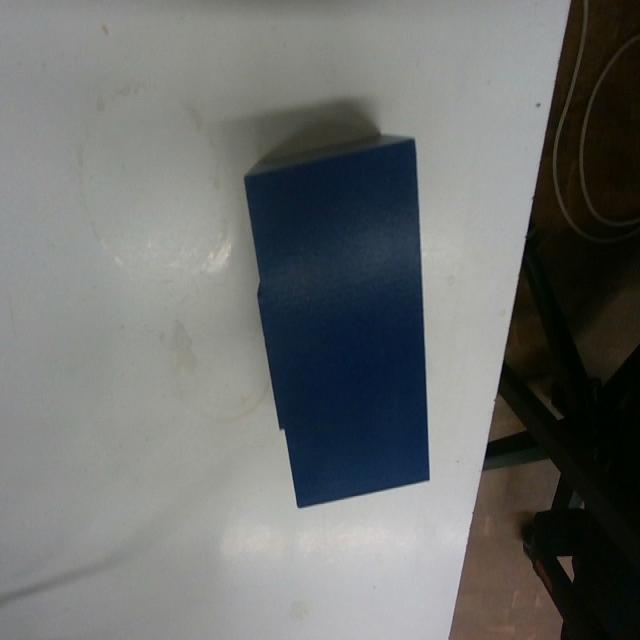Blue Cuboid: (241, 128, 433, 509)
